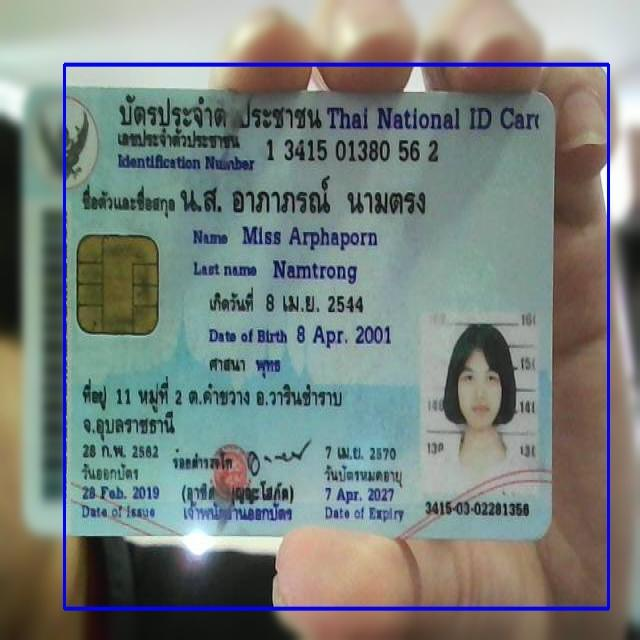Address_th: (74, 378, 348, 446)
Date_of_Birth: (293, 316, 398, 353)
Date_of_Expiry: (324, 482, 402, 505)
Date_of_Issue: (78, 480, 166, 503)
First_Name: (239, 219, 382, 254)
ID_Number: (262, 130, 446, 169)
Image: (421, 311, 538, 494)
Last_Name: (270, 257, 364, 286)
Thai_Name: (175, 169, 434, 227)
